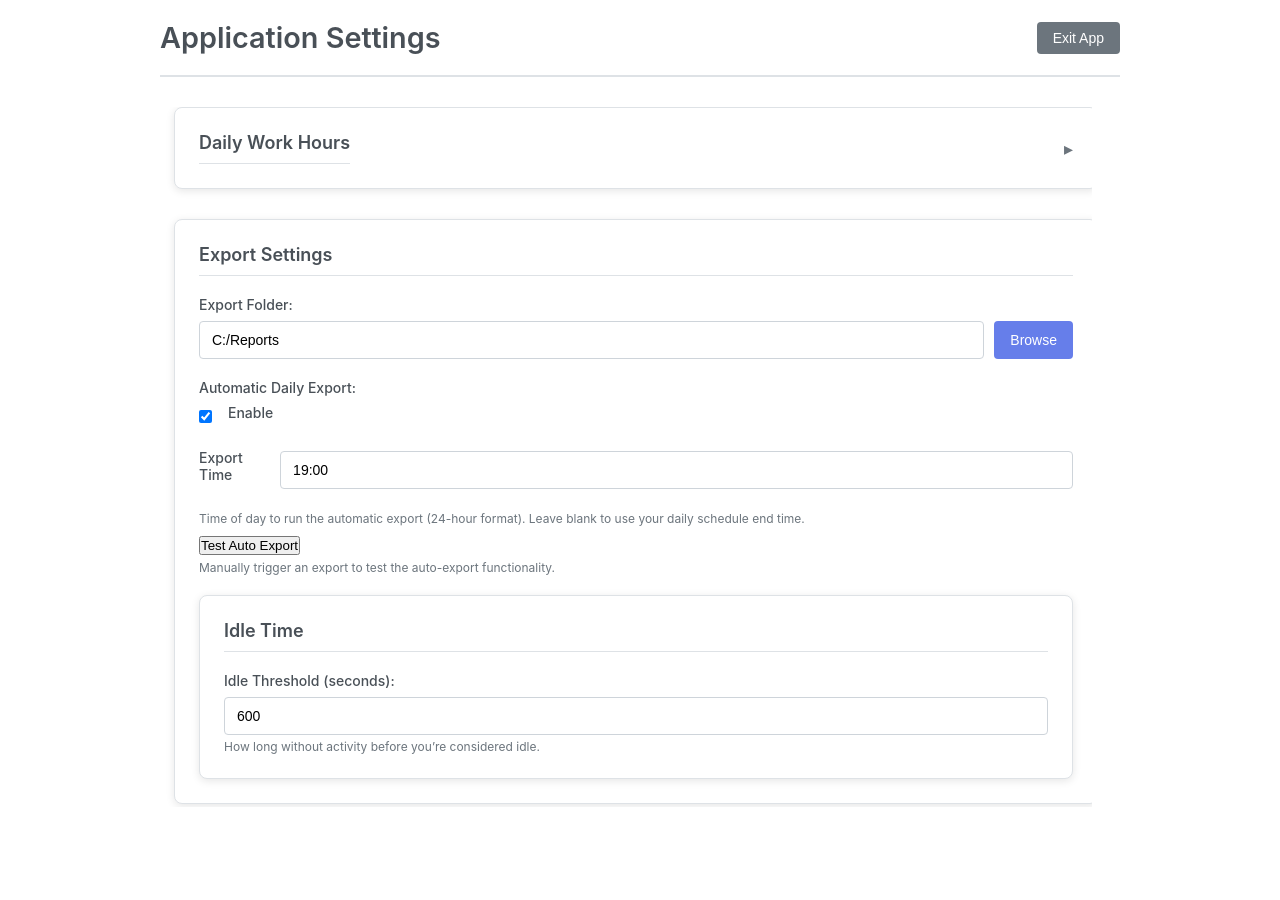
Test: SettingsTab (RED) › handles IPC save error with field error feedback
Replace the text in the field labelled "Export Folder:" with "X:<>/bad" at {"x": 592, "y": 340}, box [199,321,984,359]
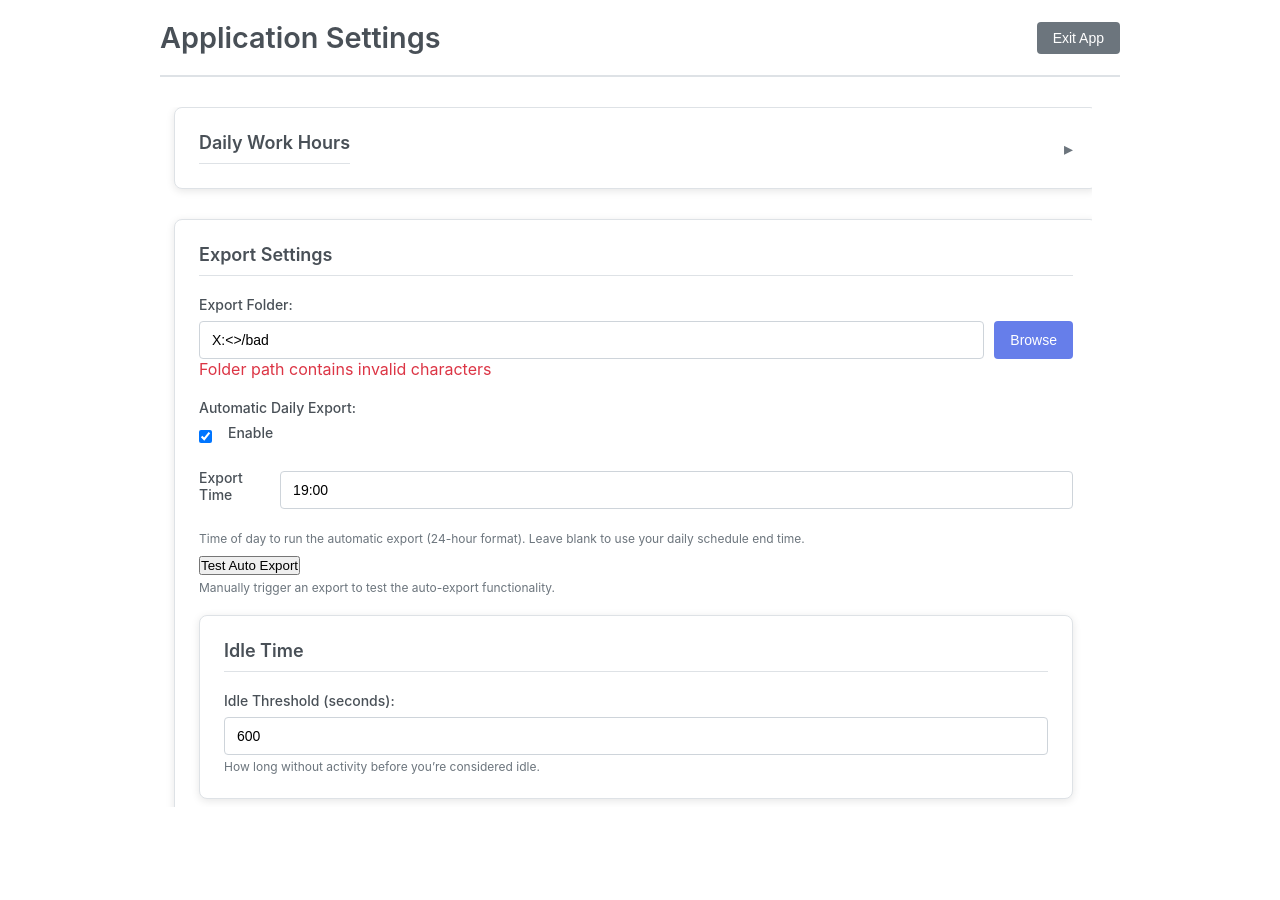
Result: the text "Folder path contains invalid characters" is shown at [199,359,492,379]
// Now set valid path and attempt to save to hit IPC error
Replace the text in the field labelled "Export Folder:" with "D:/Good" at {"x": 592, "y": 340}, box [199,321,984,359]
Wait 600 ms
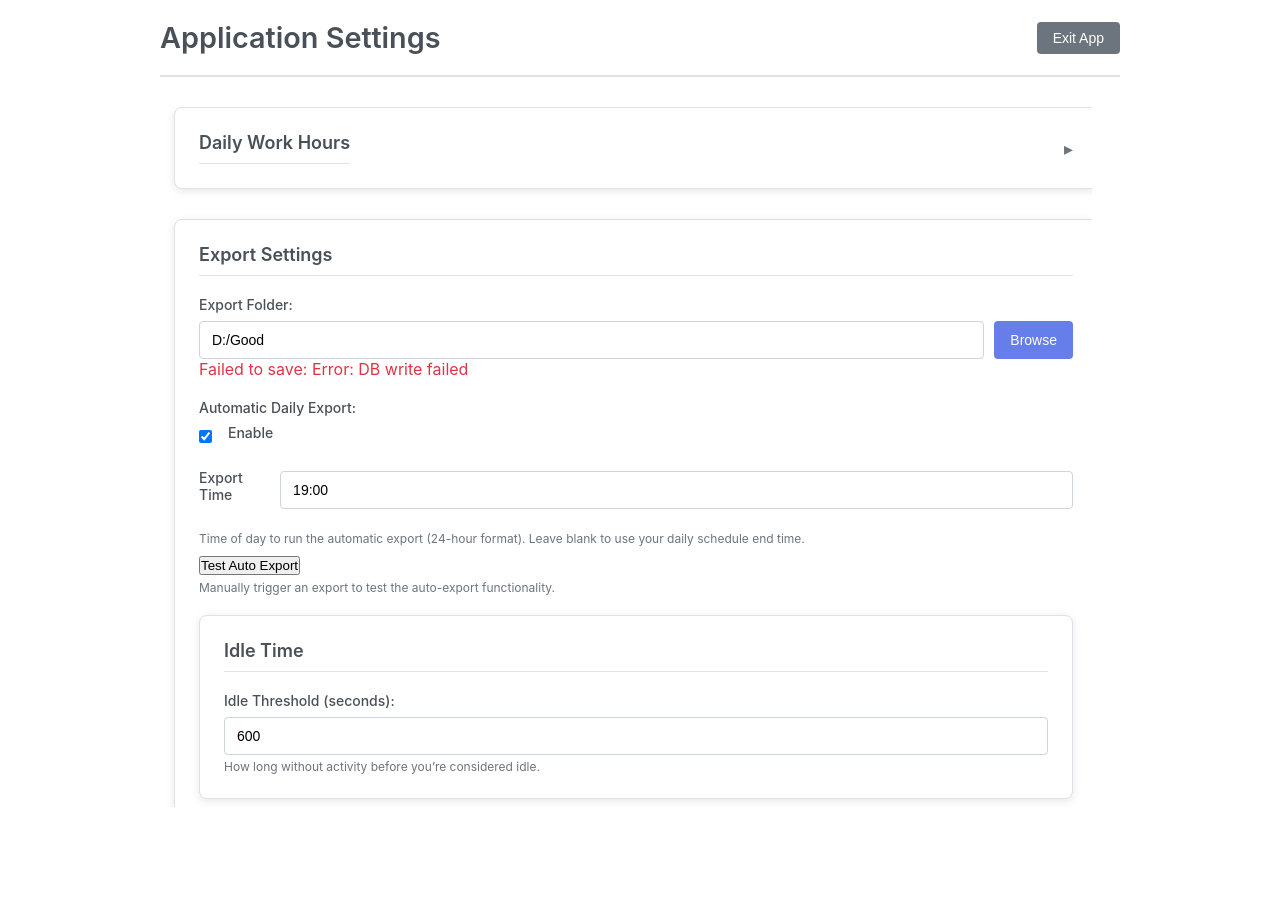
Result: the text "Failed to save: Error: DB write failed" is shown at [199,359,468,379]
